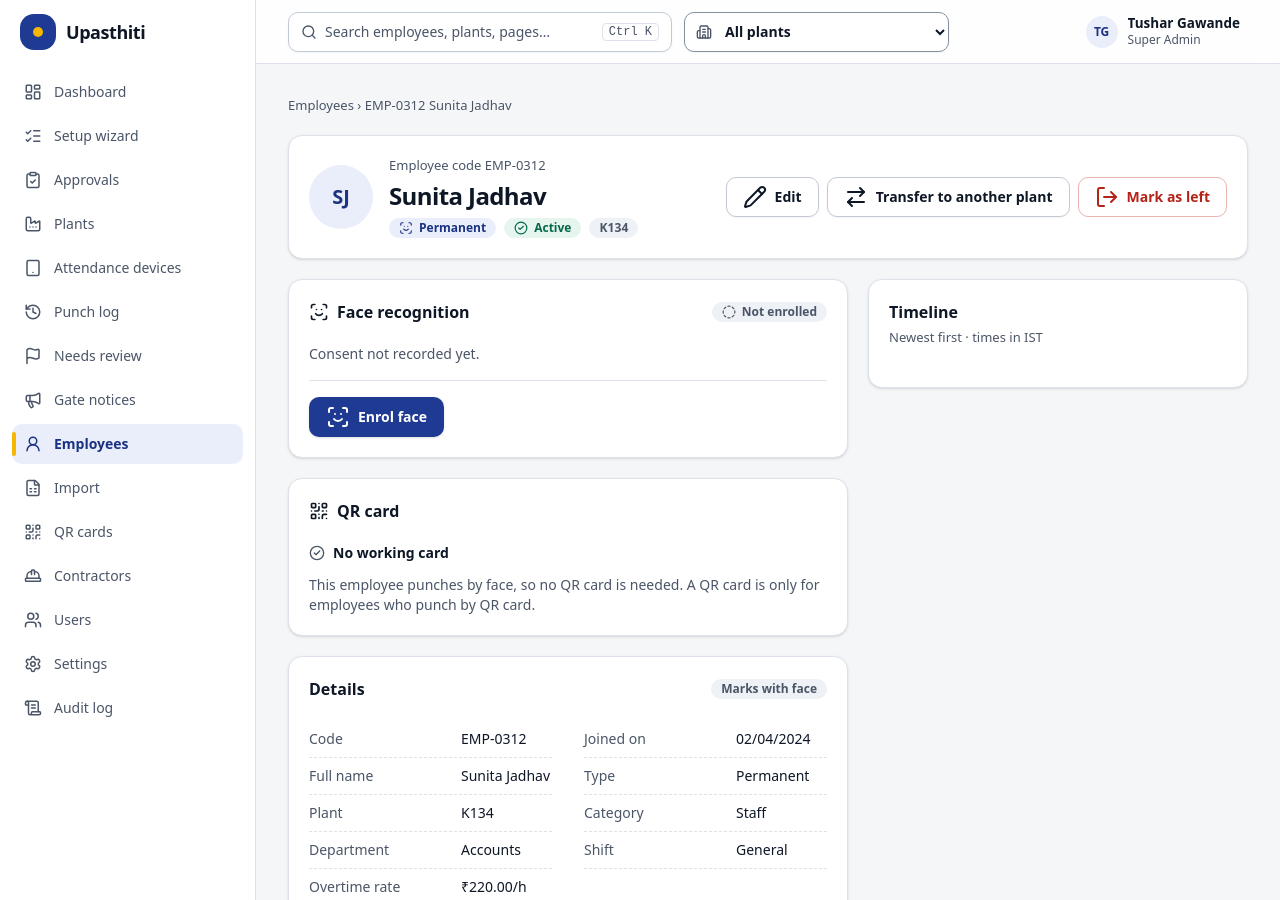
Test: consent dialog › shows the text in the chosen language and keeps the camera off
The width and height of the screenshot is (1280, 900).
Click the button "Enrol face". click: (376, 417)
box: [309, 397, 444, 437]
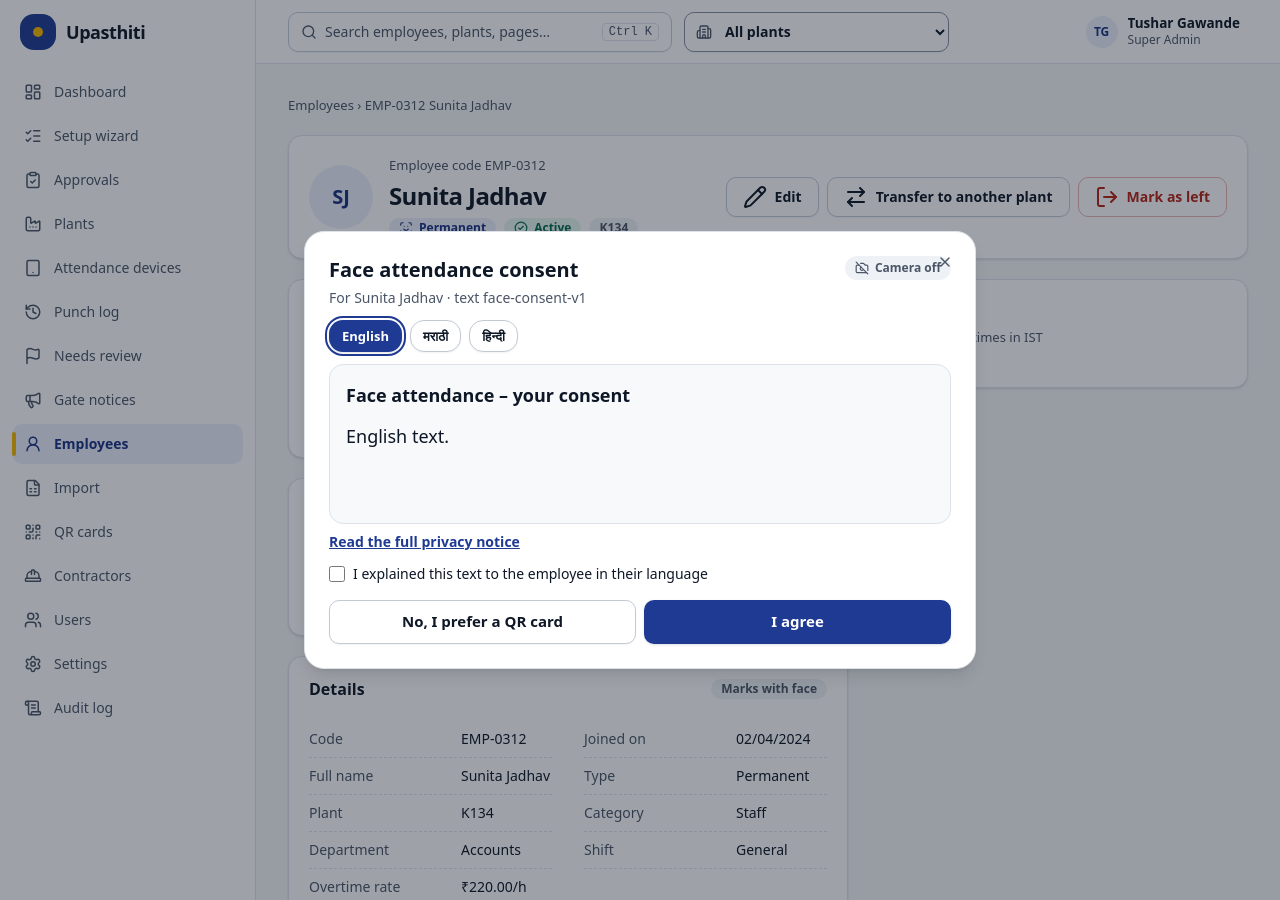
Expected: the text "Face attendance – your consent" is shown, [346, 383, 630, 407]
Expected: the text "Camera off" is shown, [845, 256, 951, 280]
Click the radio button labelled "मराठी". click: (436, 336)
box: [410, 320, 461, 352]
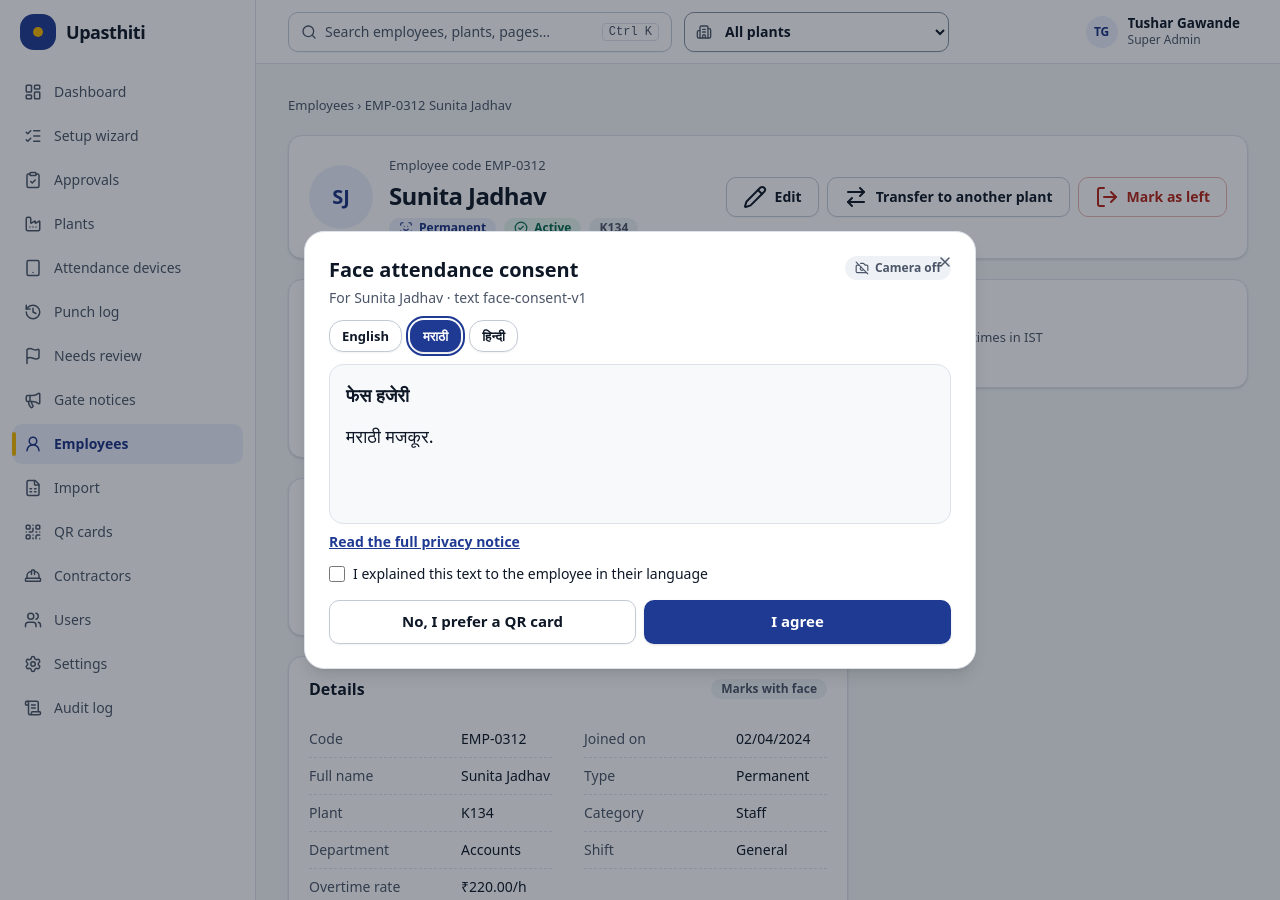
Expected: the text "फेस हजेरी" is shown, [346, 383, 409, 407]
